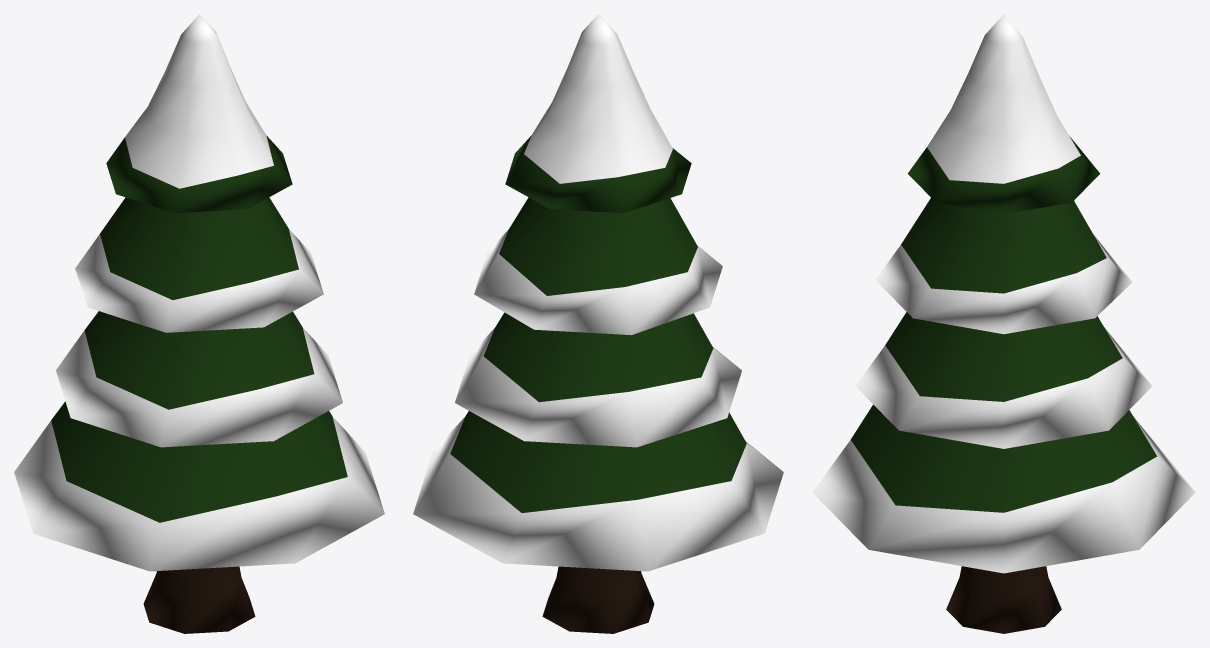
File: ArbolesGrandesPenguinDelivery.fbx
The picture shows the model from 3 angles, left to right: view 1: azimuth 30°, elevation 25°; view 2: azimuth 150°, elevation 25°; view 3: azimuth 270°, elevation 25°; orthographic projection.
Parts seen in each view (by area): view 1: arbonconnieve1; view 2: arbonconnieve1; view 3: arbonconnieve1.
Boxes of the visible parts, x1=… form: arbonconnieve1: x1=14, y1=14, x2=384, y2=633; arbonconnieve1: x1=413, y1=14, x2=783, y2=633; arbonconnieve1: x1=812, y1=14, x2=1195, y2=633.
Bounding box in the file's own units: 4.97 × 8.51 × 4.97.
